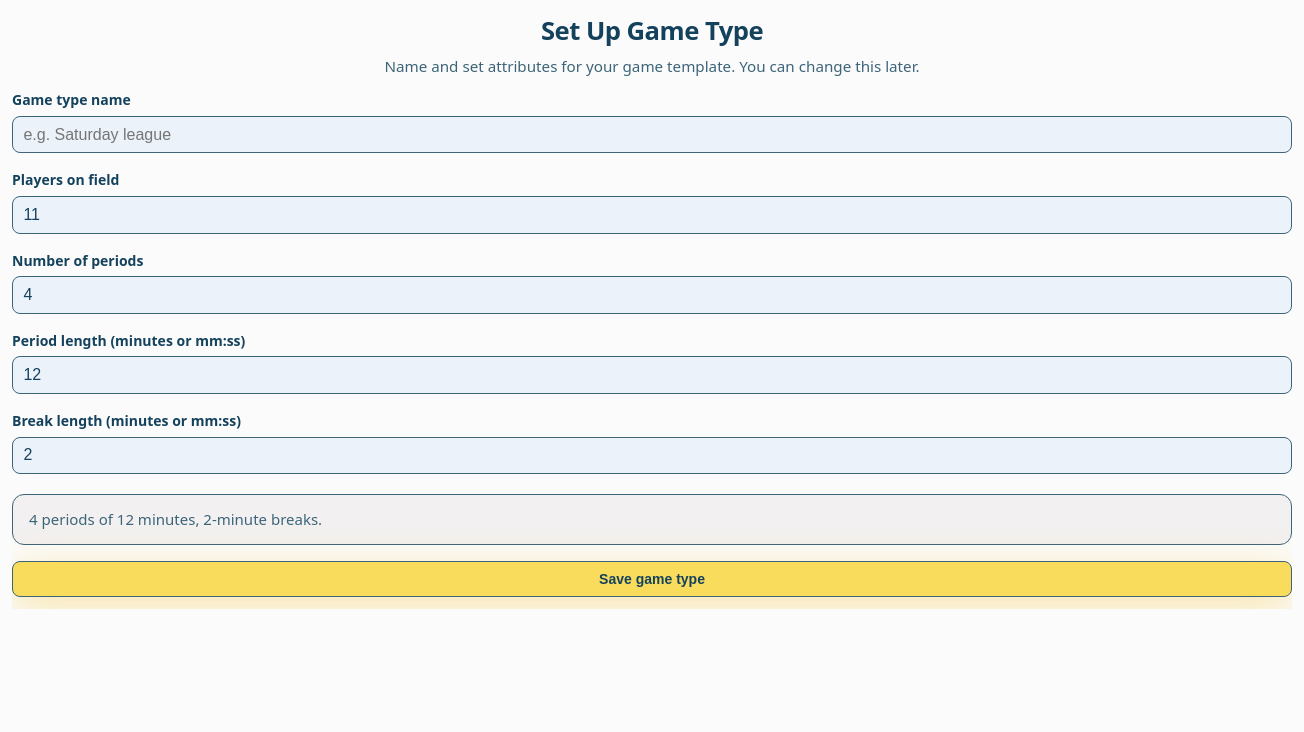
Scenario: TimerConfigForm › shows validation when periods is zero
Replace the text in the number field labelled "Number of periods" with "0" at (652, 295), box [12, 276, 1292, 314]
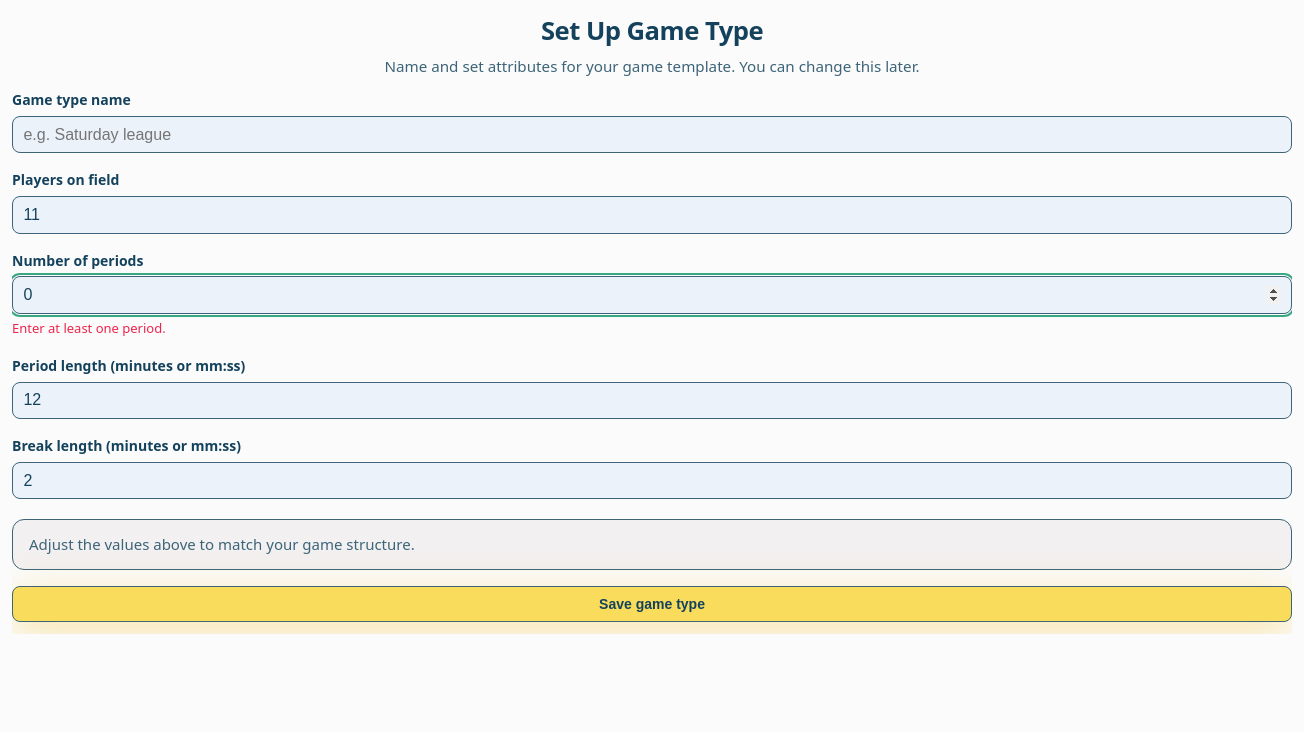
Expected: the message shows "at least one period", [12, 319, 166, 337]
